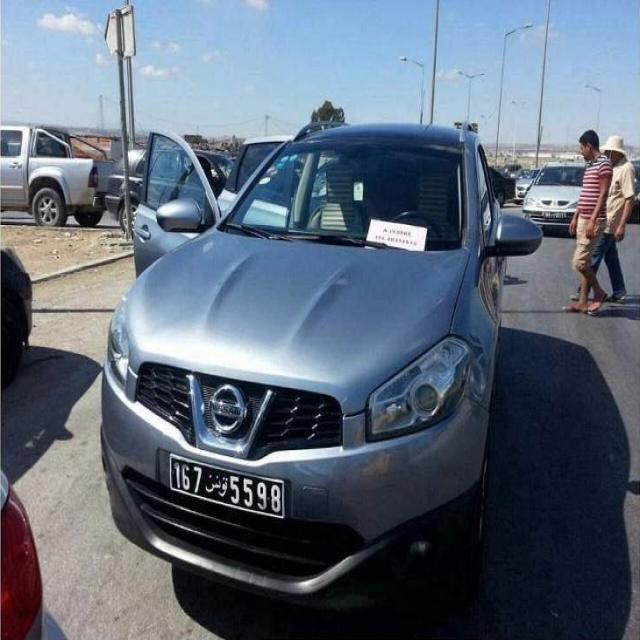licence plate: (172, 458, 282, 517)
